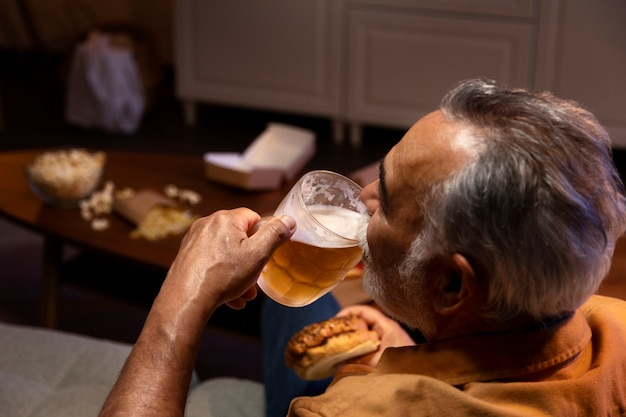alcohol: (251, 168, 381, 310)
